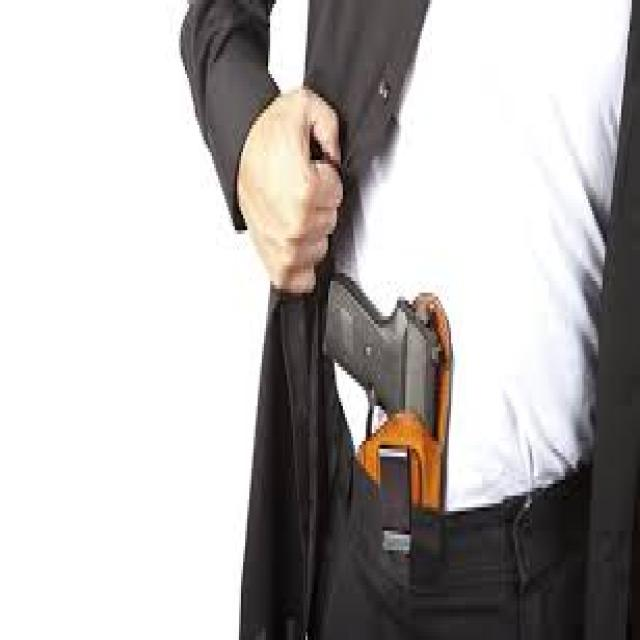gun: (312, 238, 464, 583)
